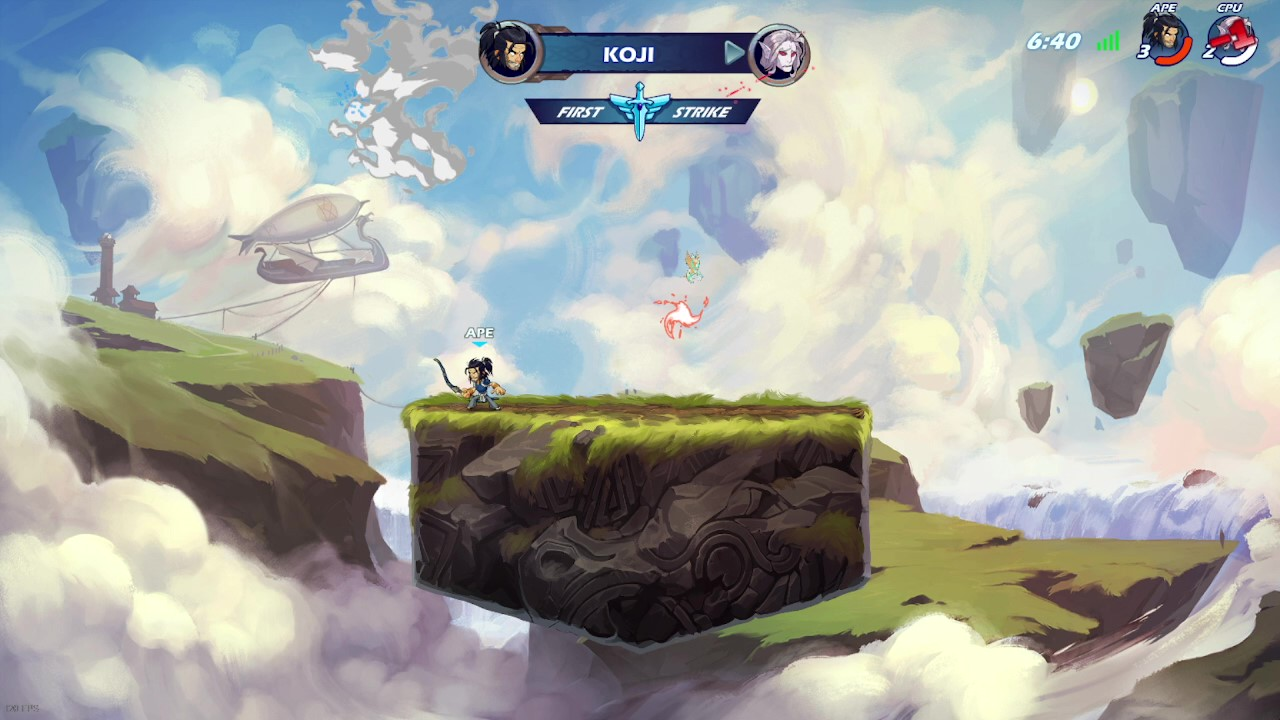koji: (461, 357, 506, 410)
koji_health_dark_orange: (1154, 15, 1193, 66)
koji_lives_3: (1136, 11, 1184, 59)
time_seconds_400: (1027, 32, 1082, 49)
volkov_health_white: (1220, 16, 1259, 66)
volkov_lives_2: (1202, 15, 1256, 59)
